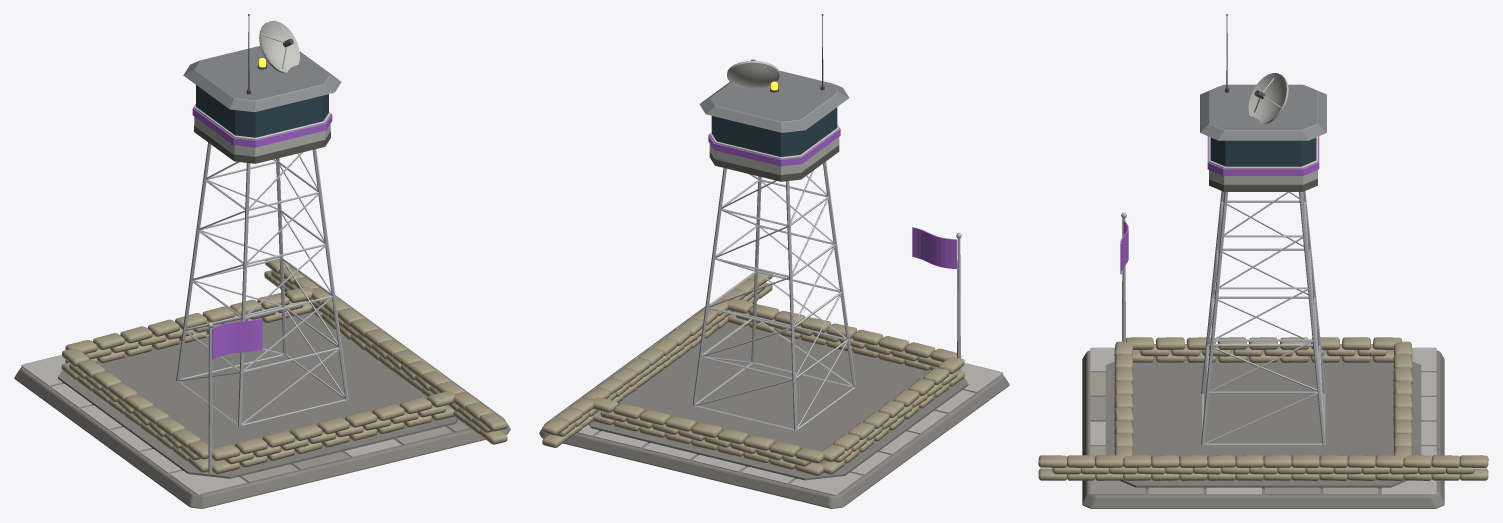
The model's file is observation_post_purple.glb.
3 views of the same model, side by side, from view 1: azimuth 30°, elevation 25°; view 2: azimuth 150°, elevation 25°; view 3: azimuth 270°, elevation 25° (orthographic). The views are drawn at different scales.
Visible parts, largest first — view 1: Body; view 2: Body; view 3: Body.
Part boxes in pixels (box(x1,y1,x2,y2)): Body: box(14, 14, 510, 508); Body: box(539, 14, 1009, 508); Body: box(1038, 14, 1488, 508).
Size of the model in its own units: 5.98 by 7.34 by 7.42.
1 material, 1 textured.
